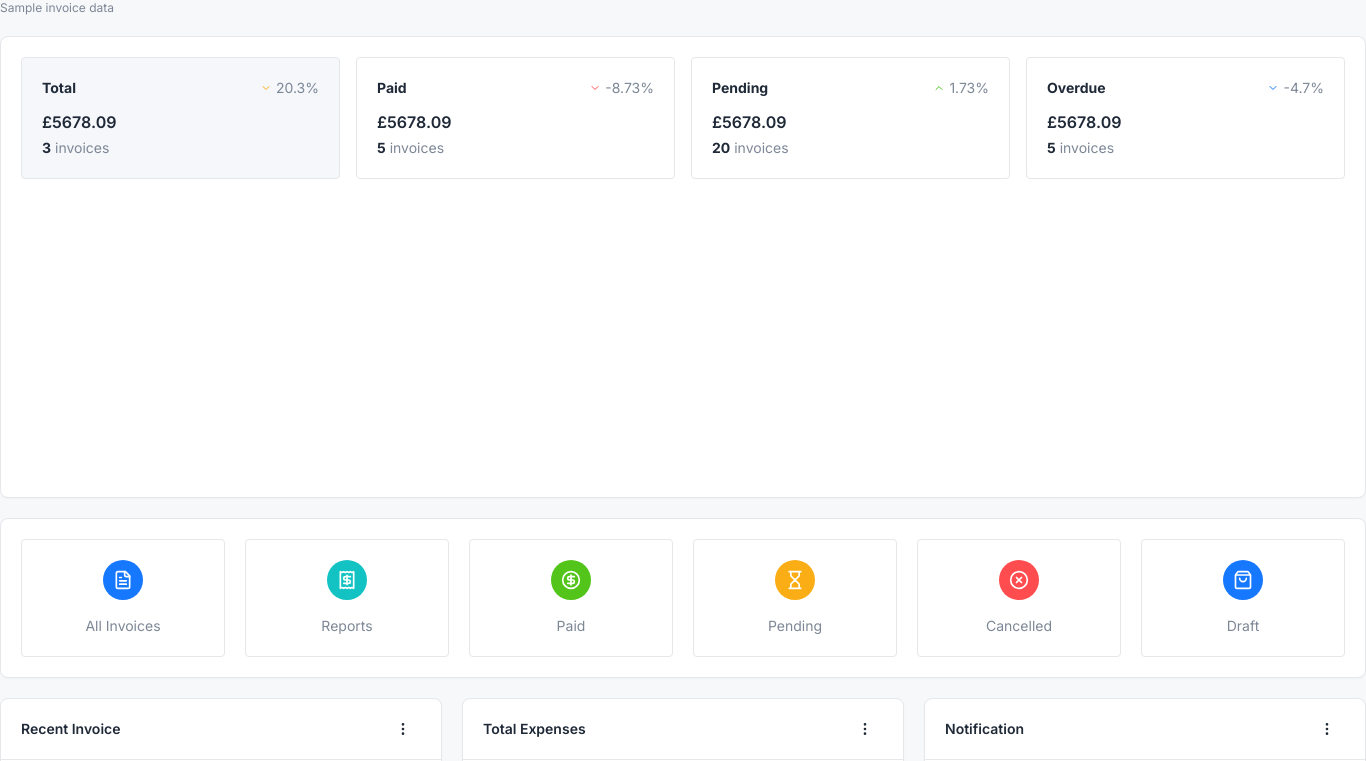
Test: invoice dashboard › filters invoice status, searches and opens the matching invoice
This screenshot has width=1366, height=761.
Click the button "Pending" at (795, 598), box [693,539,897,657]
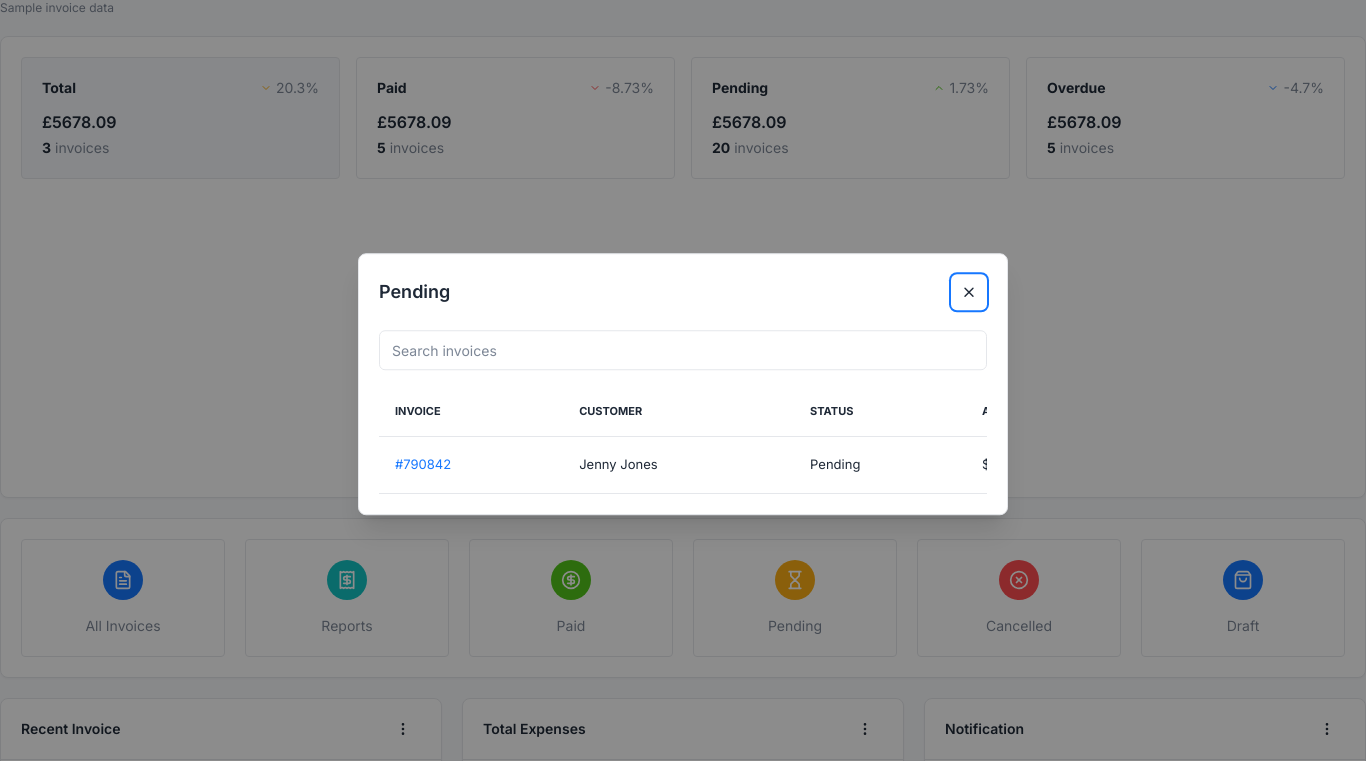
Check: the text "Jenny Jones" is shown, box [563,436,794,493]
Type "missing" into the field at (683, 350), box [379,330,987,370]
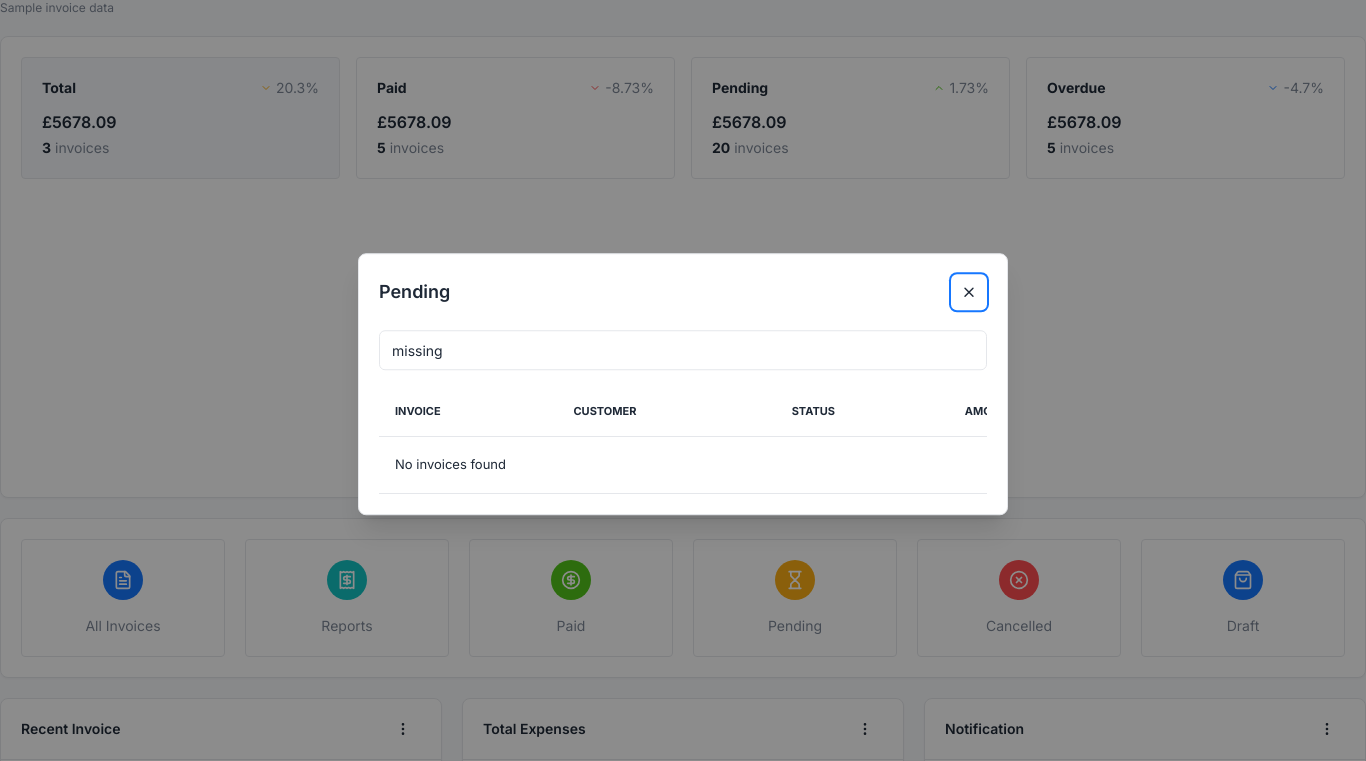
Check: the text "No invoices found" is shown, box [379,436,987,493]
Replace the text in the field with "790842" at (683, 350), box [379,330,987,370]
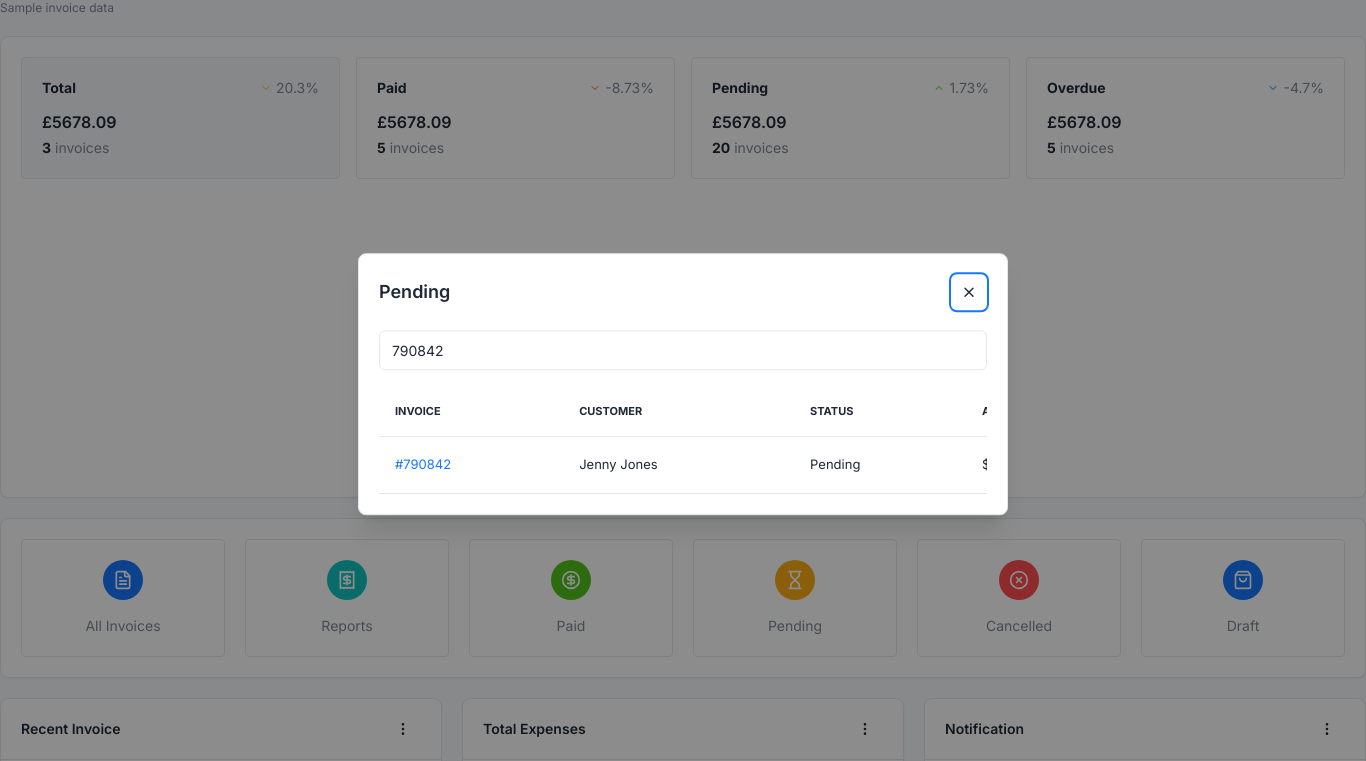
Click the button "#790842" at (423, 465), box [395,455,451,474]
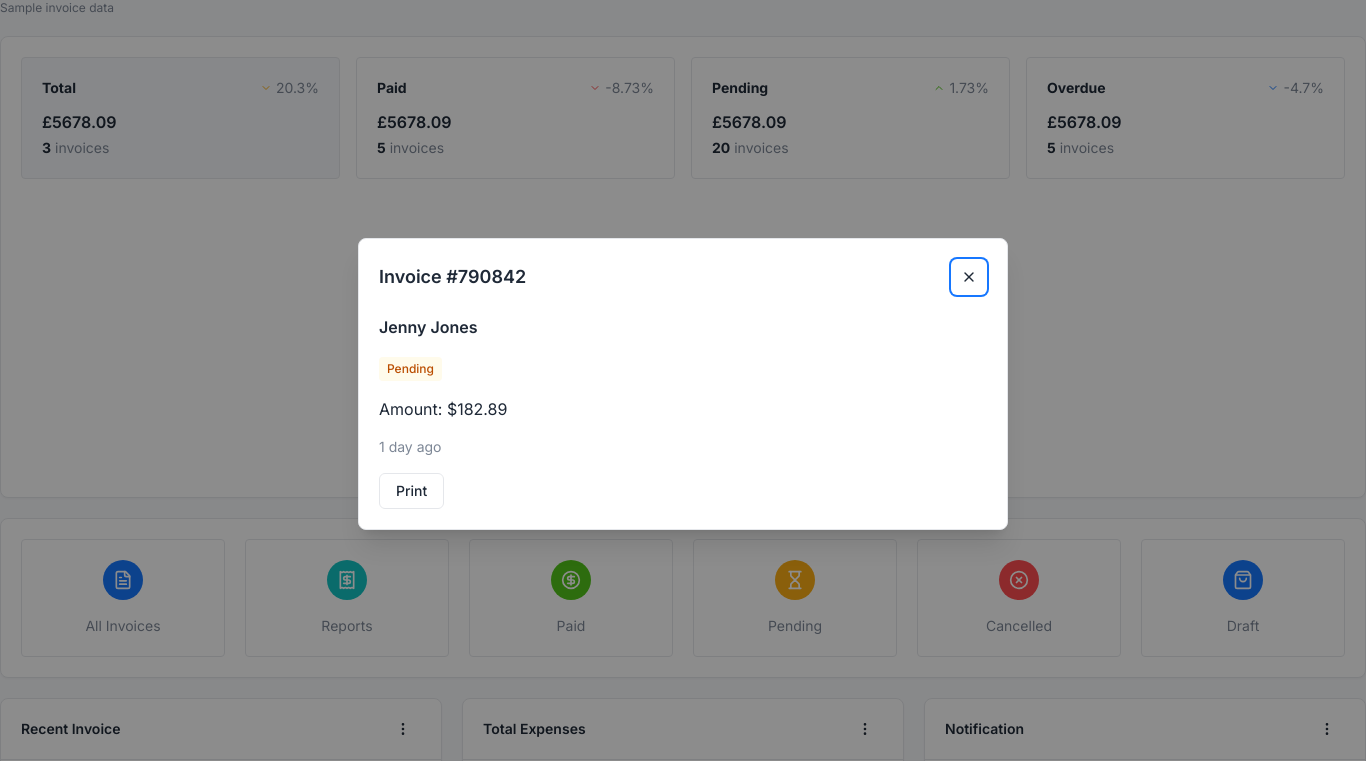
Check: the heading "Invoice #790842" is shown, box [379,263,526,291]
Check: the text "Amount: $182.89" is shown, box [379,399,507,419]
Click the button named "Close invoice dialog" at (969, 277), box [951,259,987,295]
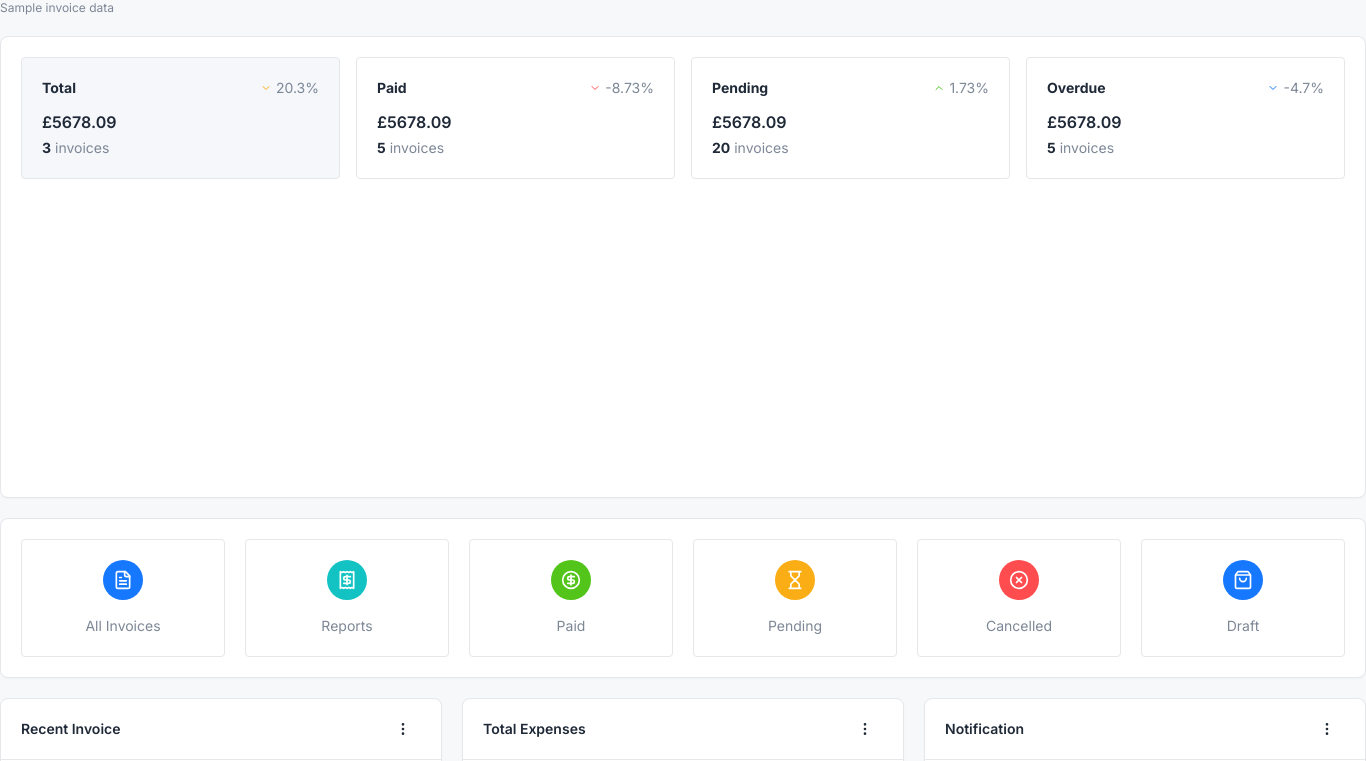
Check: the dialog is gone
